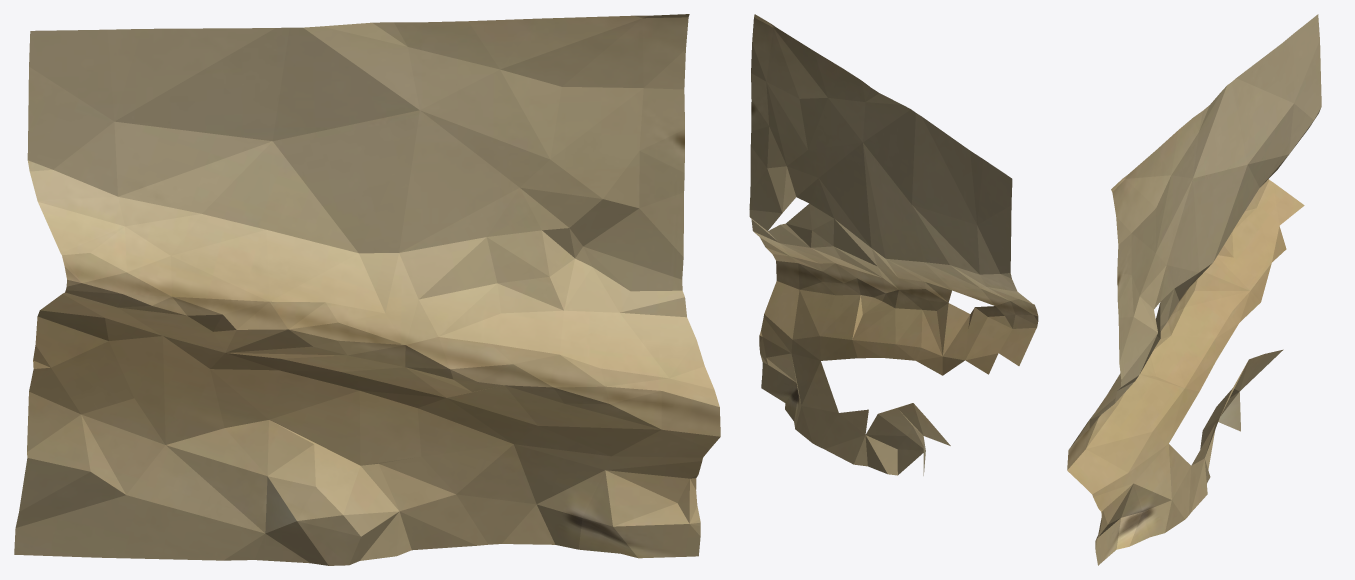
The picture shows the model from 3 angles, left to right: view 1: azimuth 30°, elevation 25°; view 2: azimuth 150°, elevation 25°; view 3: azimuth 270°, elevation 25°; orthographic projection. The views are drawn at different scales.
Bounding box in the file's own units: 0.8374 × 0.8374 × 0.5517.
3 materials, 3 textured.
